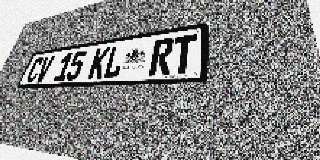1: (53, 52, 75, 81)
5: (65, 50, 87, 81)
C: (25, 57, 45, 83)
K: (87, 47, 111, 79)
L: (102, 45, 127, 79)
R: (148, 37, 175, 76)
T: (170, 34, 197, 75)
V: (34, 55, 55, 82)
